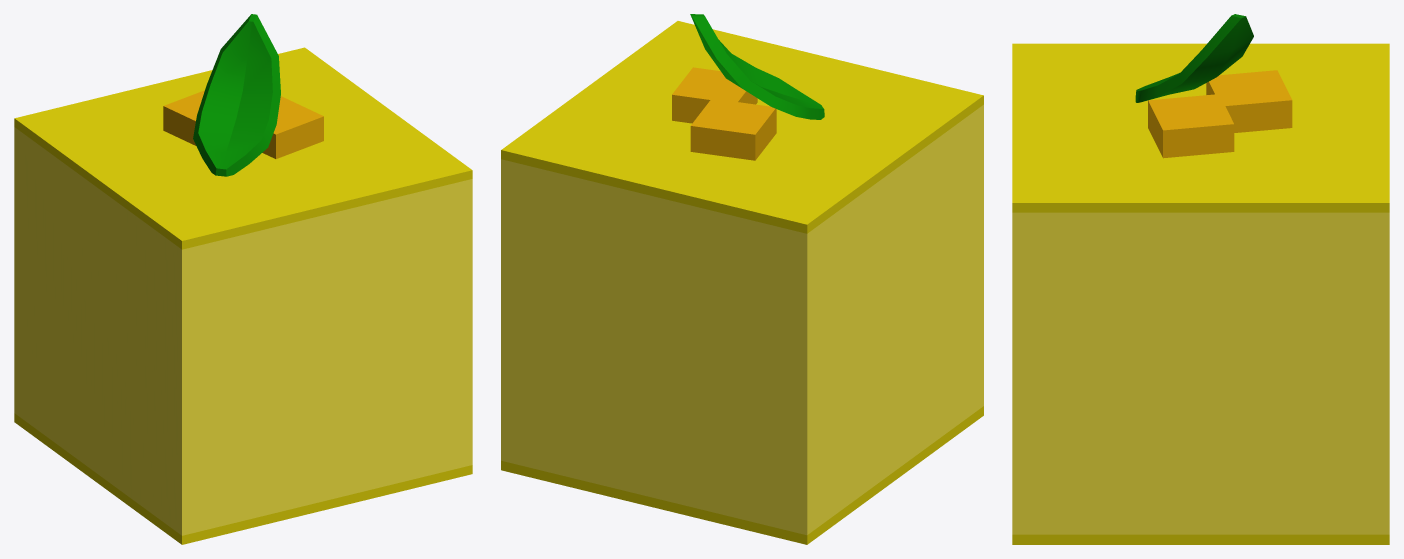
Rendered from cake_yellow_1.fbx.
3 views of the same model, side by side, from view 1: azimuth 30°, elevation 25°; view 2: azimuth 150°, elevation 25°; view 3: azimuth 270°, elevation 25° (orthographic). The views are drawn at different scales.
Visible parts, largest first — view 1: 立方体.009; view 2: 立方体.009; view 3: 立方体.009.
Boxes of the visible parts, x1,y1,x2,y2 form: 立方体.009: [14, 14, 472, 544]; 立方体.009: [501, 14, 983, 544]; 立方体.009: [1012, 14, 1389, 544].
Bounding box in the file's own units: 14.6 × 19.82 × 14.6.
